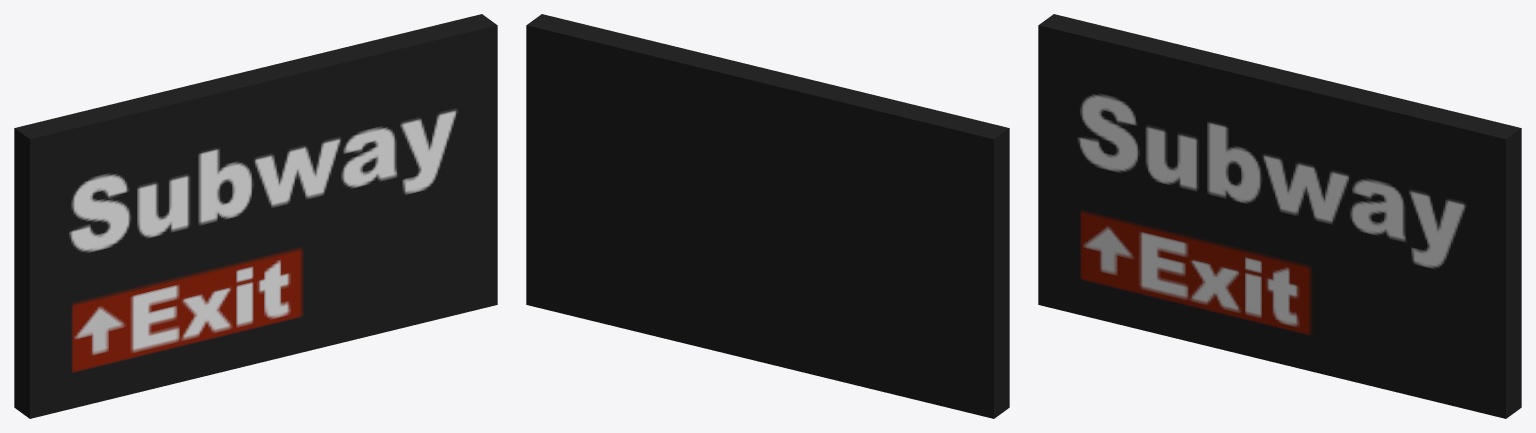
The model's file is SW_PROP_Sign_Medium_02.fbx.
3 renders of one model, left to right at view 1: azimuth 30°, elevation 25°; view 2: azimuth 150°, elevation 25°; view 3: azimuth 330°, elevation 25°, orthographic.
Visible parts, largest first — view 1: SW_PROP_Sign_Medium_02; view 2: SW_PROP_Sign_Medium_02; view 3: SW_PROP_Sign_Medium_02.
Part boxes in pixels (bbox=[...]): SW_PROP_Sign_Medium_02: bbox=[14, 14, 497, 418]; SW_PROP_Sign_Medium_02: bbox=[526, 14, 1009, 418]; SW_PROP_Sign_Medium_02: bbox=[1038, 14, 1521, 418].
Size of the model in its own units: 0.7 by 0.4 by 0.04.
